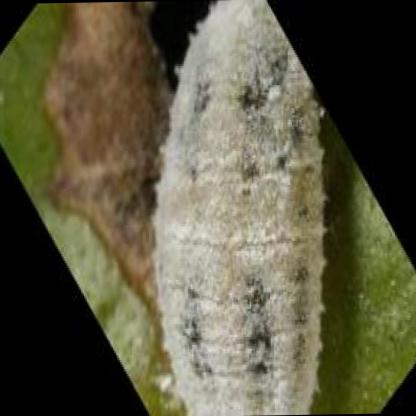mealy bug: (154, 0, 323, 414)
